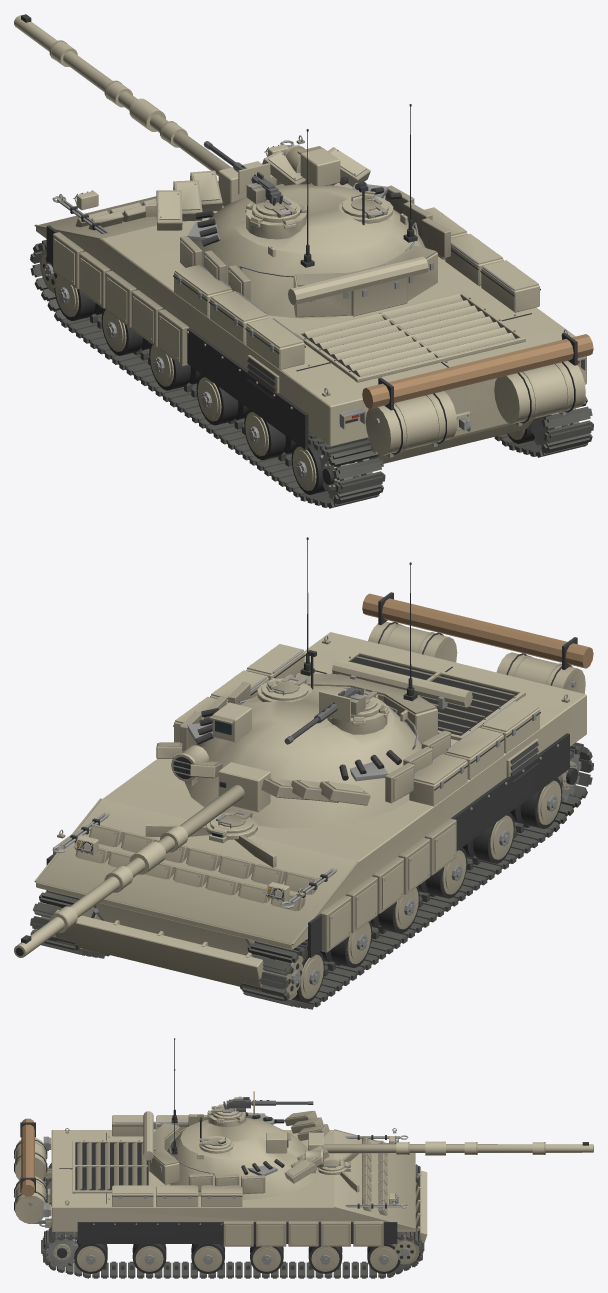
File: rus_mbt_80.glb
3 views of the same model, one above another, from view 1: azimuth 30°, elevation 25°; view 2: azimuth 150°, elevation 25°; view 3: azimuth 270°, elevation 25° (orthographic). The views are drawn at different scales.
Parts seen in each view (by area): view 1: body, turret, barrel; view 2: body, turret, barrel; view 3: body, turret, barrel.
Part boxes in pixels (x1=…): body: x1=30, y1=135, x2=593, y2=508; turret: x1=156, y1=104, x2=450, y2=318; barrel: x1=14, y1=14, x2=270, y2=206; body: x1=30, y1=592, x2=593, y2=1009; turret: x1=156, y1=537, x2=472, y2=828; barrel: x1=14, y1=762, x2=270, y2=957; body: x1=14, y1=1115, x2=427, y2=1278; turret: x1=143, y1=1038, x2=329, y2=1199; barrel: x1=308, y1=1132, x2=593, y2=1155.
Bounding box in the file's own units: 3.78 × 3.93 × 11.08.
